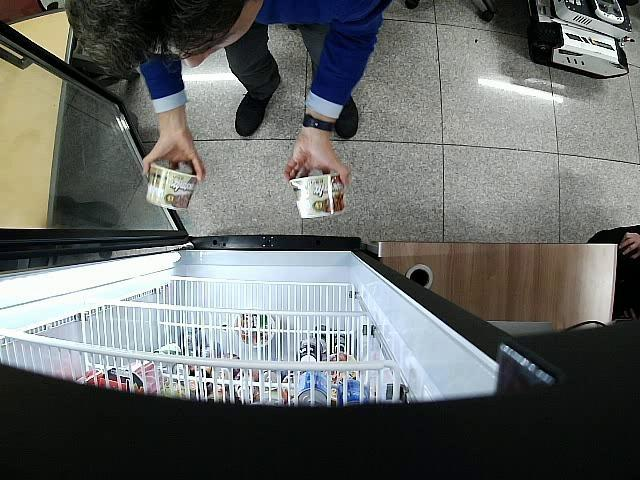03_chapagetti_L: (288, 174, 346, 218), (144, 164, 197, 210)
